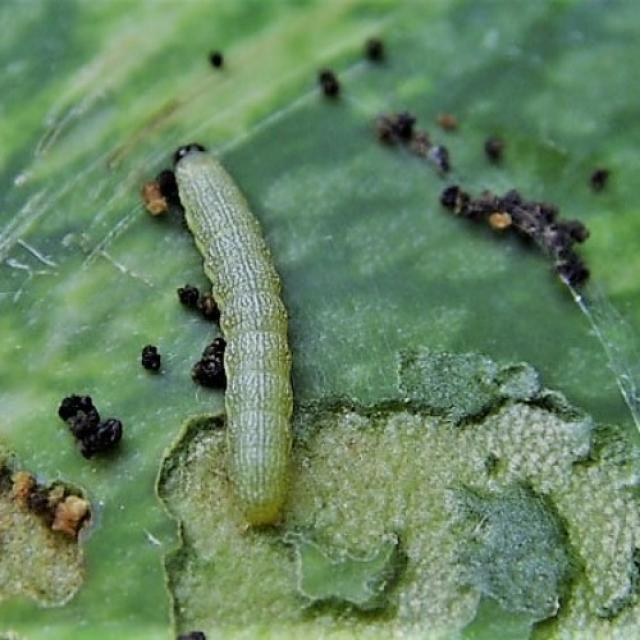armyworm: (170, 141, 296, 528)
